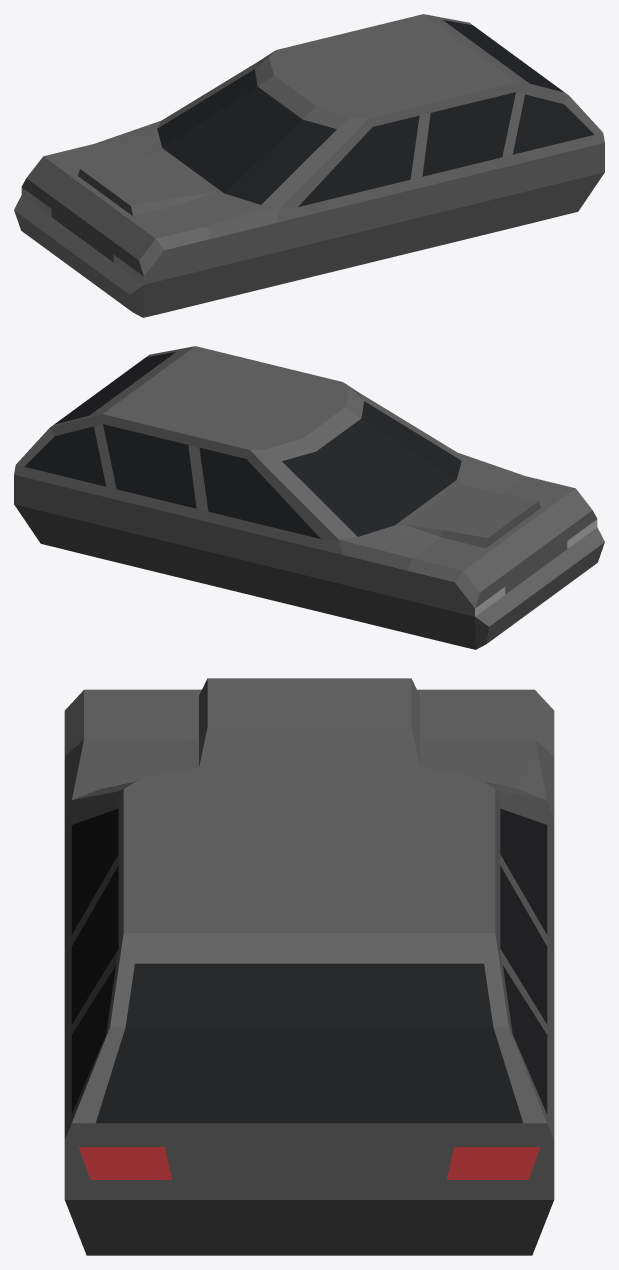
The model's file is Car-2.fbx.
3 views of the same model, one above another, from view 1: azimuth 30°, elevation 25°; view 2: azimuth 150°, elevation 25°; view 3: azimuth 270°, elevation 25° (orthographic). The views are drawn at different scales.
Parts seen in each view (by area): view 1: Car-2; view 2: Car-2; view 3: Car-2.
Boxes of the visible parts, x1,y1,x2,y2 form: Car-2: (14, 14, 604, 317); Car-2: (14, 346, 604, 649); Car-2: (64, 678, 554, 1255).
Bounding box in the file's own units: 358 × 104 × 161.
